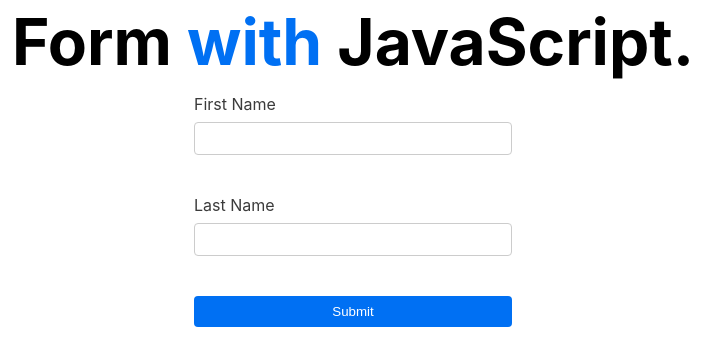
MyForm › submit form successfully
Type "Samil" into the field with test id "inputFirstName". click: [353, 139]
box: [194,122,512,155]
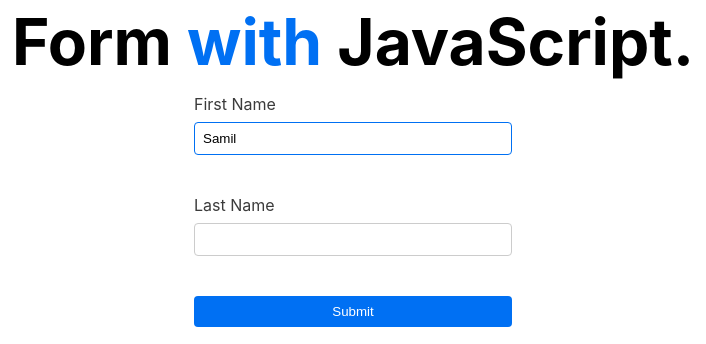
Type "Abud" into the field with test id "inputLastName". click: [353, 240]
box: [194,223,512,256]
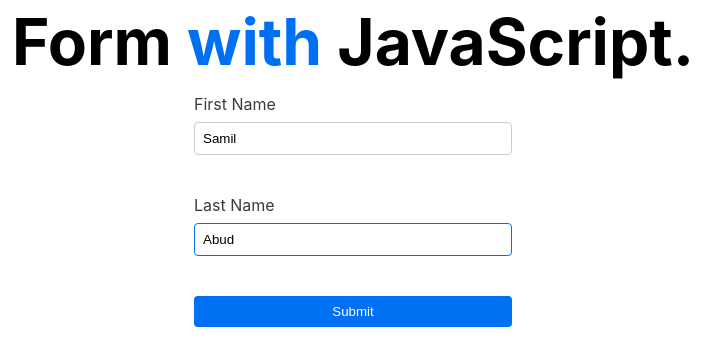
Click the button "Submit". click: [353, 312]
box: [194,296,512,327]
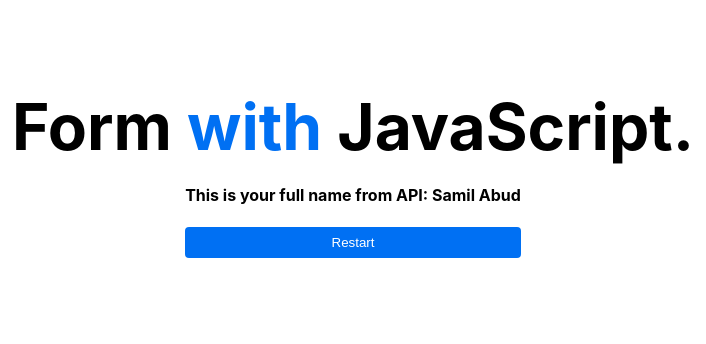
Check: the heading "This is your full name from API: Samil Abud" is shown, box [185,185,521,205]
